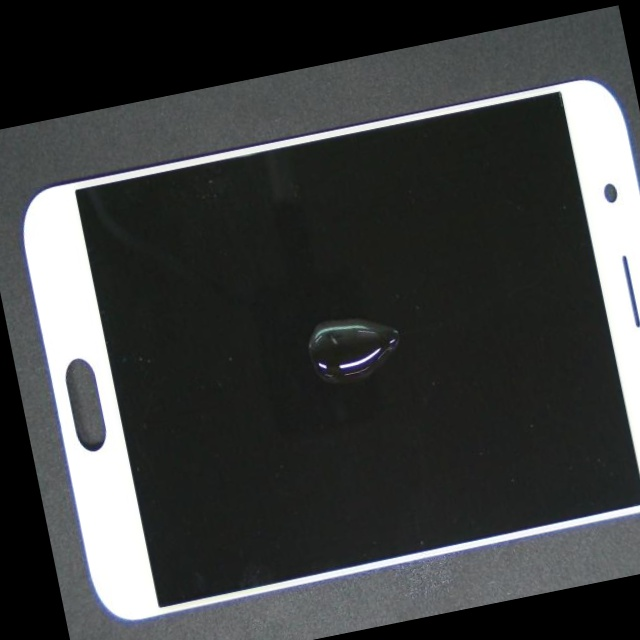oil: (159, 194, 590, 545)
